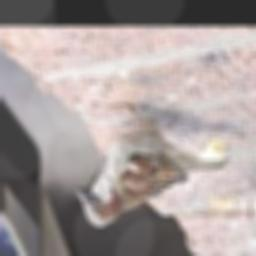Sparrow: (75, 106, 229, 228)
